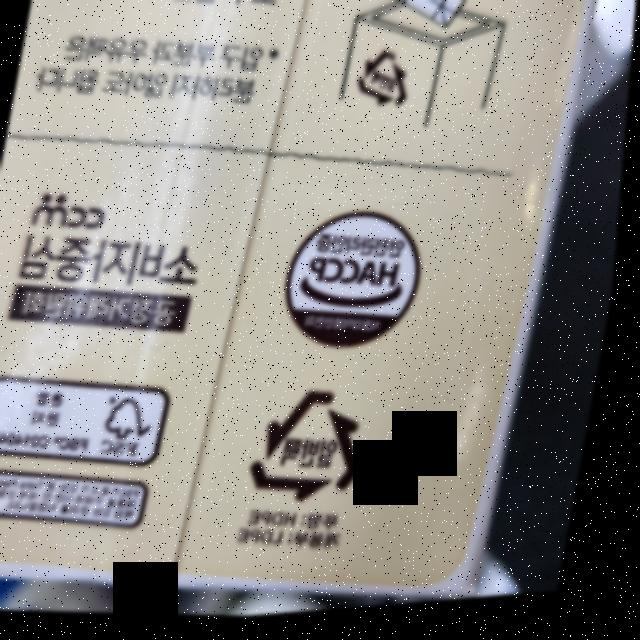NormalPack: (248, 379, 391, 520)
